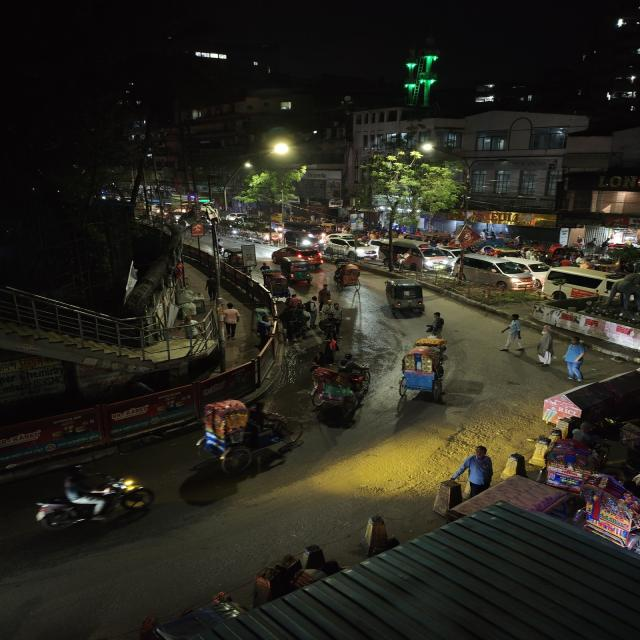car: (469, 253, 531, 289), (551, 264, 606, 300), (403, 242, 452, 272), (269, 243, 323, 264), (335, 234, 378, 258), (282, 229, 326, 248)
cng: (382, 278, 429, 311), (281, 254, 313, 284)
motorcycle: (20, 467, 164, 532)
pedestrian: (461, 440, 499, 496), (556, 332, 588, 381), (505, 309, 529, 356), (420, 310, 455, 342), (535, 319, 558, 366), (328, 305, 349, 332), (306, 296, 320, 328), (318, 315, 338, 336), (316, 281, 331, 309)
rickshaw: (178, 399, 307, 473), (302, 358, 378, 418), (389, 337, 449, 396), (329, 264, 364, 293), (266, 273, 288, 299)
